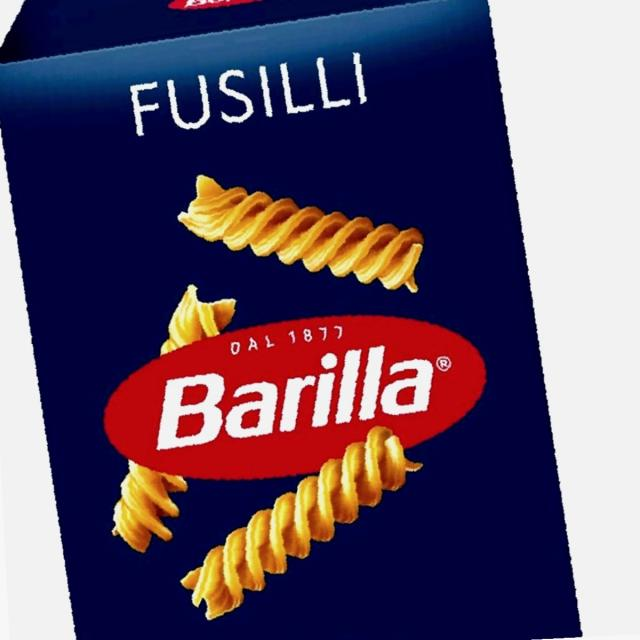pasta package: (0, 0, 579, 639)
